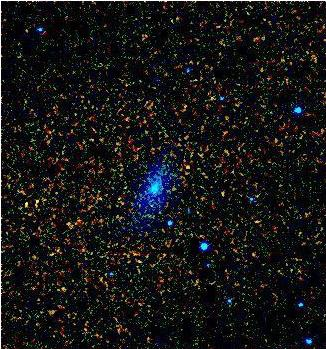star: (173, 154, 203, 184)
